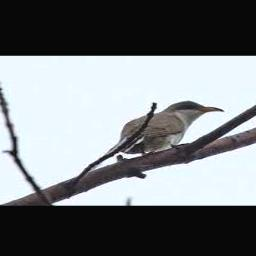Cuckoo: (114, 100, 222, 154)
